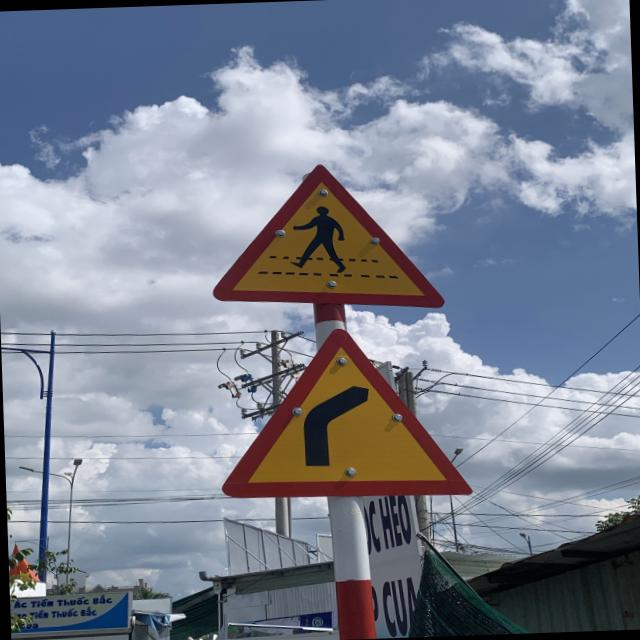Duong_Nguoi_Di_Bo_Cat_Ngang: (214, 323, 473, 503)
Duong_Nguoi_Di_Bo_Sang_Ngang: (207, 157, 446, 316)
